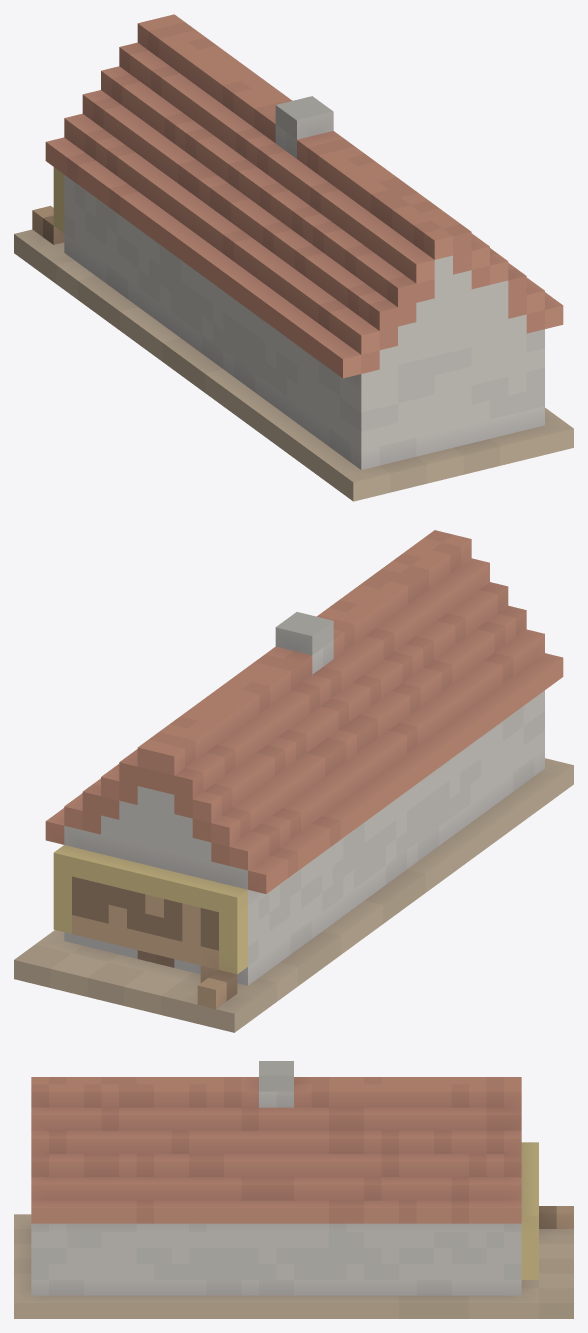
File: iron_mine.lite.glb
3 renders of one model, top to bottom at view 1: azimuth 30°, elevation 25°; view 2: azimuth 150°, elevation 25°; view 3: azimuth 270°, elevation 25°, orthographic. The views are drawn at different scales.
Visible parts, largest first — view 1: iron_mine; view 2: iron_mine; view 3: iron_mine.
Part boxes in pixels (box(x1,y1,x2,y2)): iron_mine: box(14, 14, 573, 501); iron_mine: box(14, 530, 573, 1032); iron_mine: box(14, 1061, 573, 1318).
Bounding box in the file's own units: 3 × 3.25 × 8.
